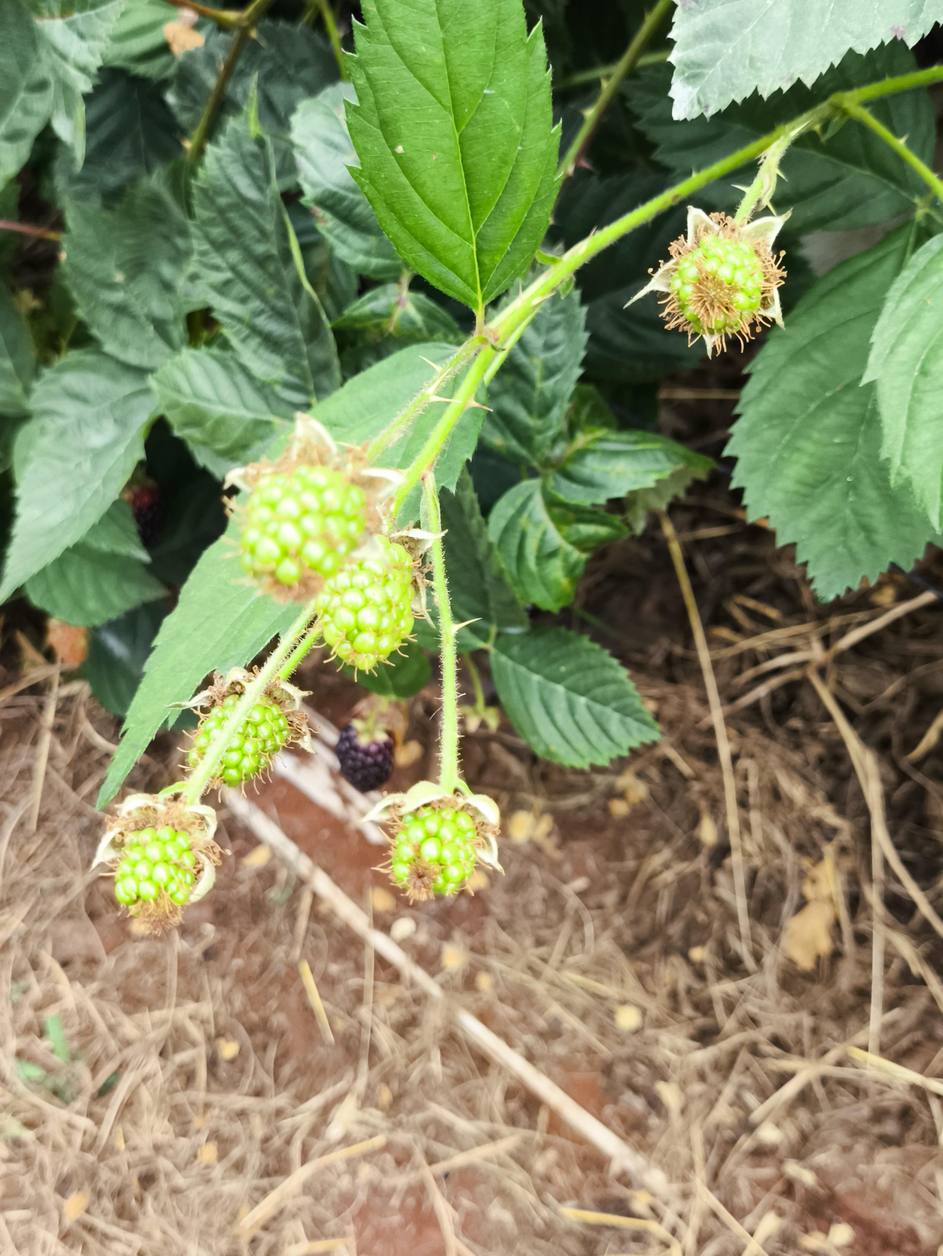maduro: (335, 724, 394, 792)
verde: (627, 207, 788, 355), (96, 795, 221, 931), (239, 463, 365, 588), (317, 537, 413, 671), (391, 808, 477, 898)
